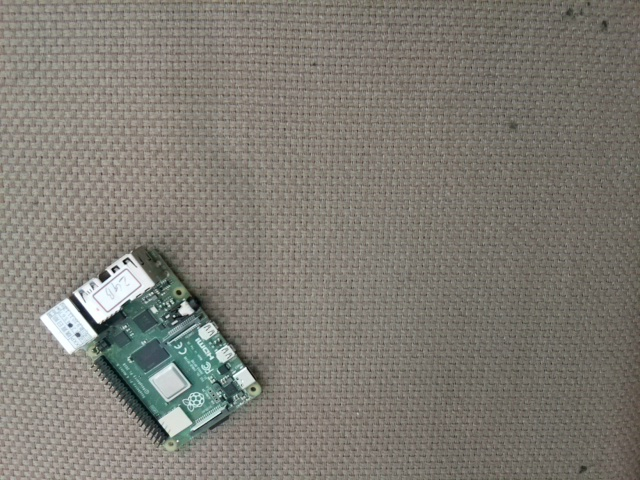Pi4: (35, 239, 265, 458)
